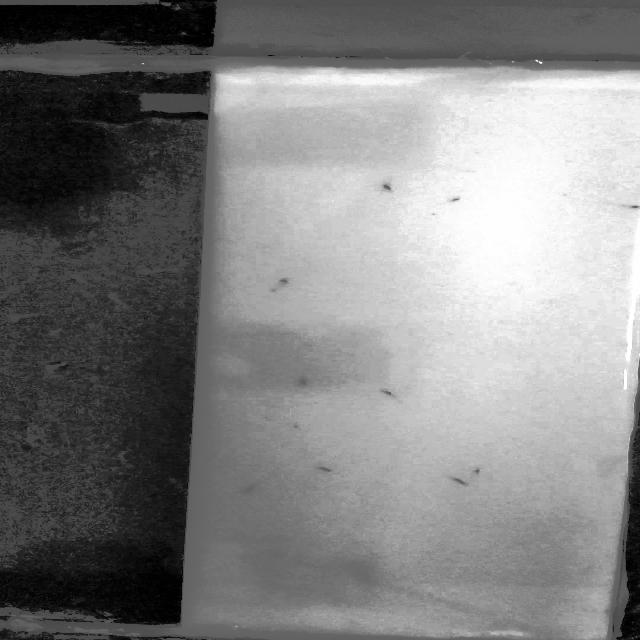shrimp: (364, 170, 408, 199), (372, 382, 406, 401), (269, 278, 309, 293), (463, 462, 497, 479), (444, 476, 480, 489), (288, 374, 319, 389), (238, 484, 268, 499), (438, 196, 474, 207), (313, 462, 339, 474)
